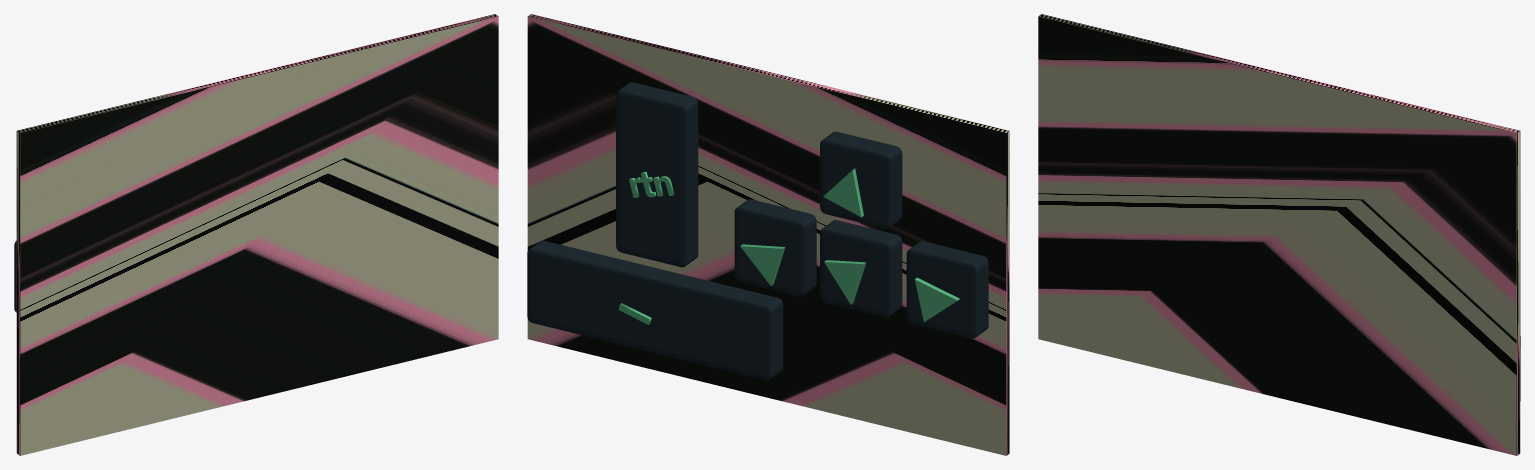
Rendered from Remix_UI_SHADOWS_2.fbx.
3 renders of one model, left to right at view 1: azimuth 30°, elevation 25°; view 2: azimuth 150°, elevation 25°; view 3: azimuth 330°, elevation 25°, orthographic.
Parts seen in each view (by area): view 1: dot.044; view 2: dot.044, Cube.026, Cube.031, Cube.027, Cube.030, Cube.029, Cube.028, Curve.001, Curve.004, Curve.003, Curve.002, dress me.099; view 3: dot.044.
Boxes of the visible parts, x1,y1,x2,y2 form: dot.044: (16, 14, 498, 455); dot.044: (527, 14, 1009, 455); Cube.026: (527, 240, 783, 380); Cube.031: (616, 82, 698, 267); Cube.027: (820, 131, 902, 228); Cube.030: (906, 241, 988, 338); Cube.029: (734, 199, 816, 296); Cube.028: (820, 220, 902, 317); Curve.001: (824, 260, 866, 304); Curve.004: (740, 244, 785, 285); Curve.003: (915, 277, 959, 321); Curve.002: (823, 168, 863, 217); dress me.099: (629, 172, 674, 197); dot.044: (1038, 14, 1520, 455).
Bounding box in the file's own units: 200 × 129 × 19.81.
